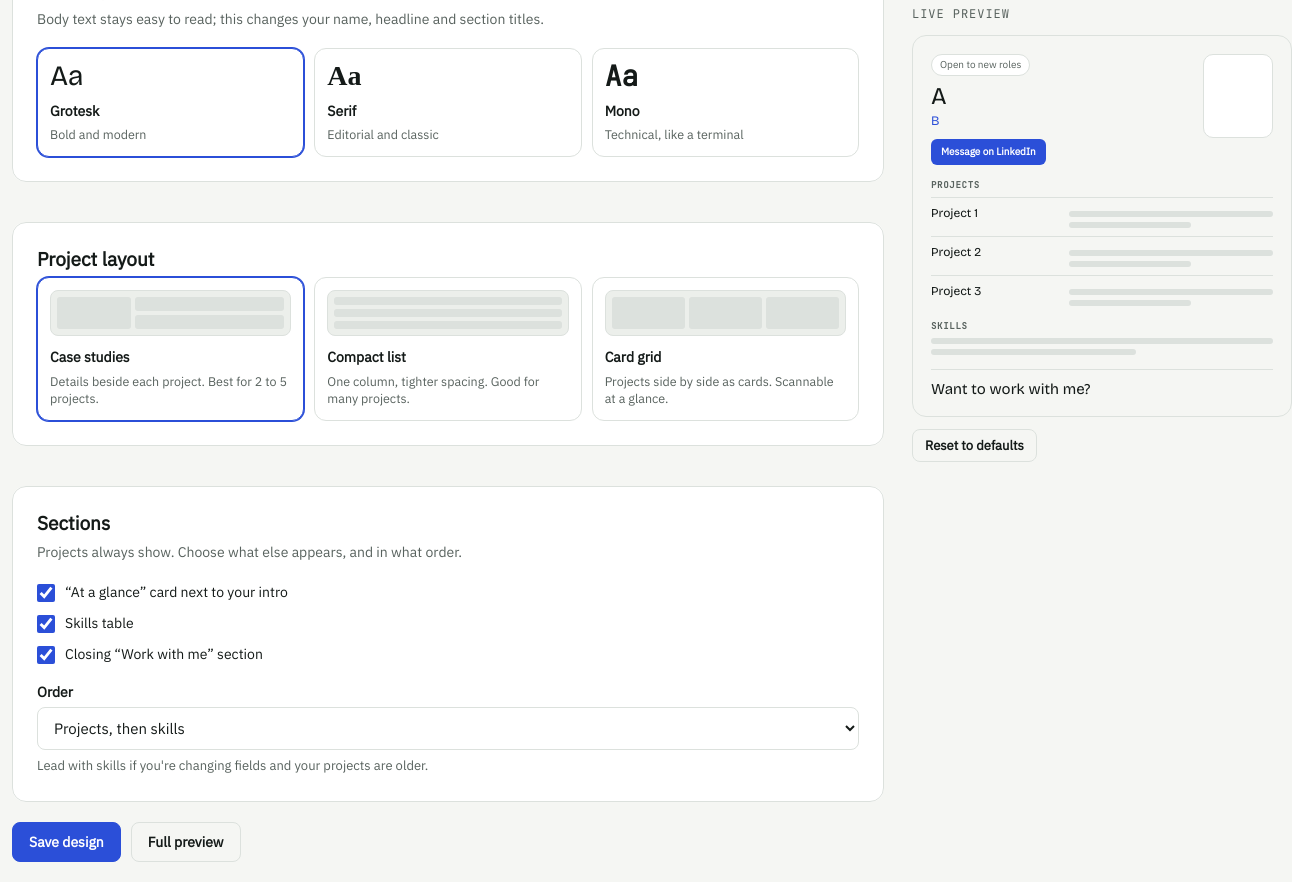
Test: DesignForm › toggles the glance card and contact section in the preview
(page scrolled)
Click the checkbox labelled "“At a glance” card next to your intro" at (46, 593), box [37, 584, 55, 602]
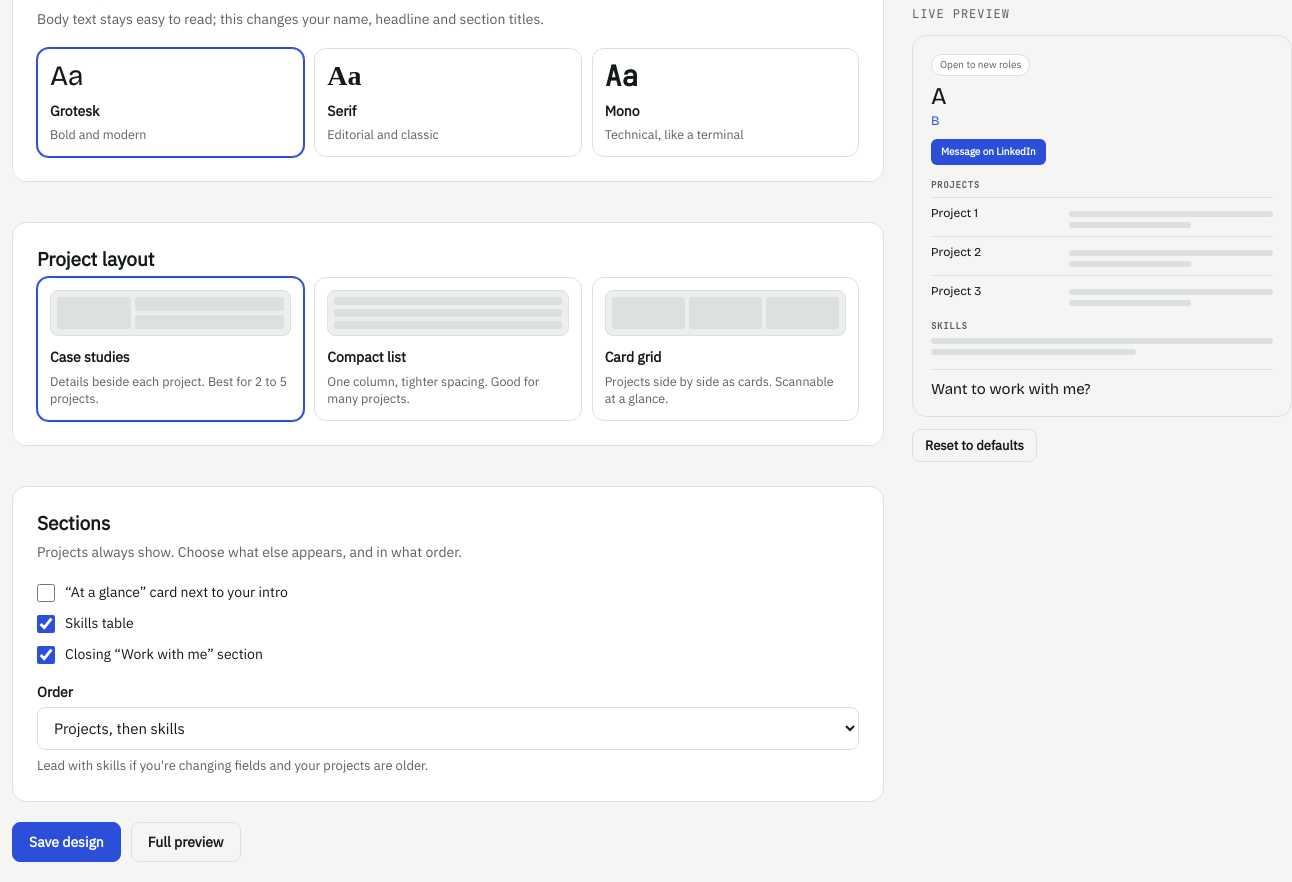
Click the checkbox labelled "Closing “Work with me” section" at (46, 655), box [37, 646, 55, 664]
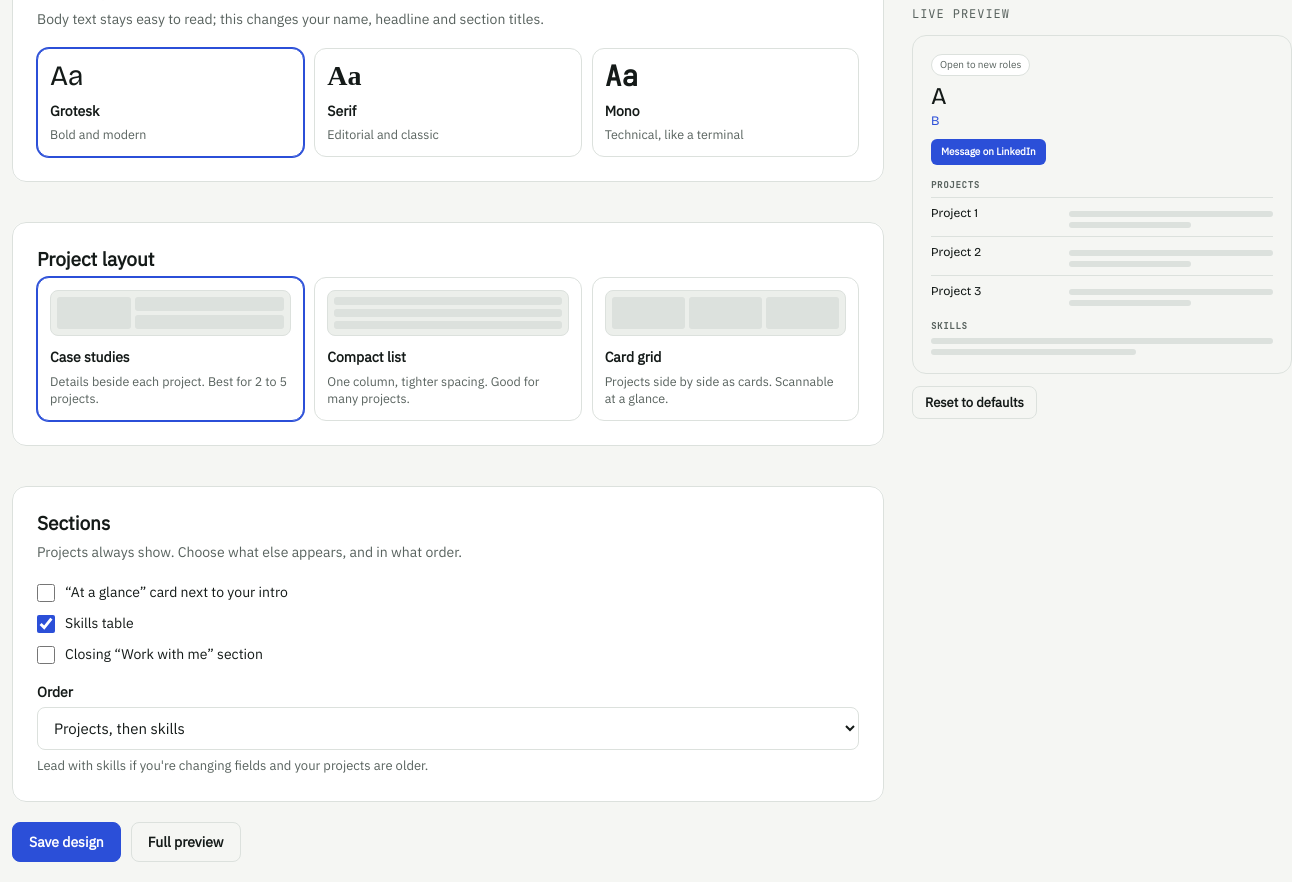
Check: the text with class "dp-contact" is gone
